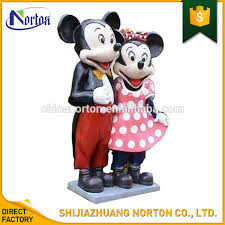Mickey: (54, 9, 124, 74)
